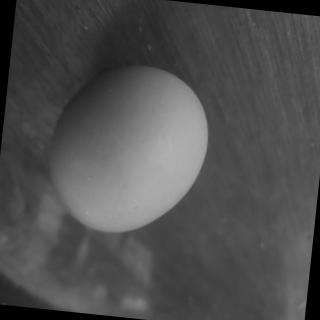Telur: (39, 53, 220, 249)
